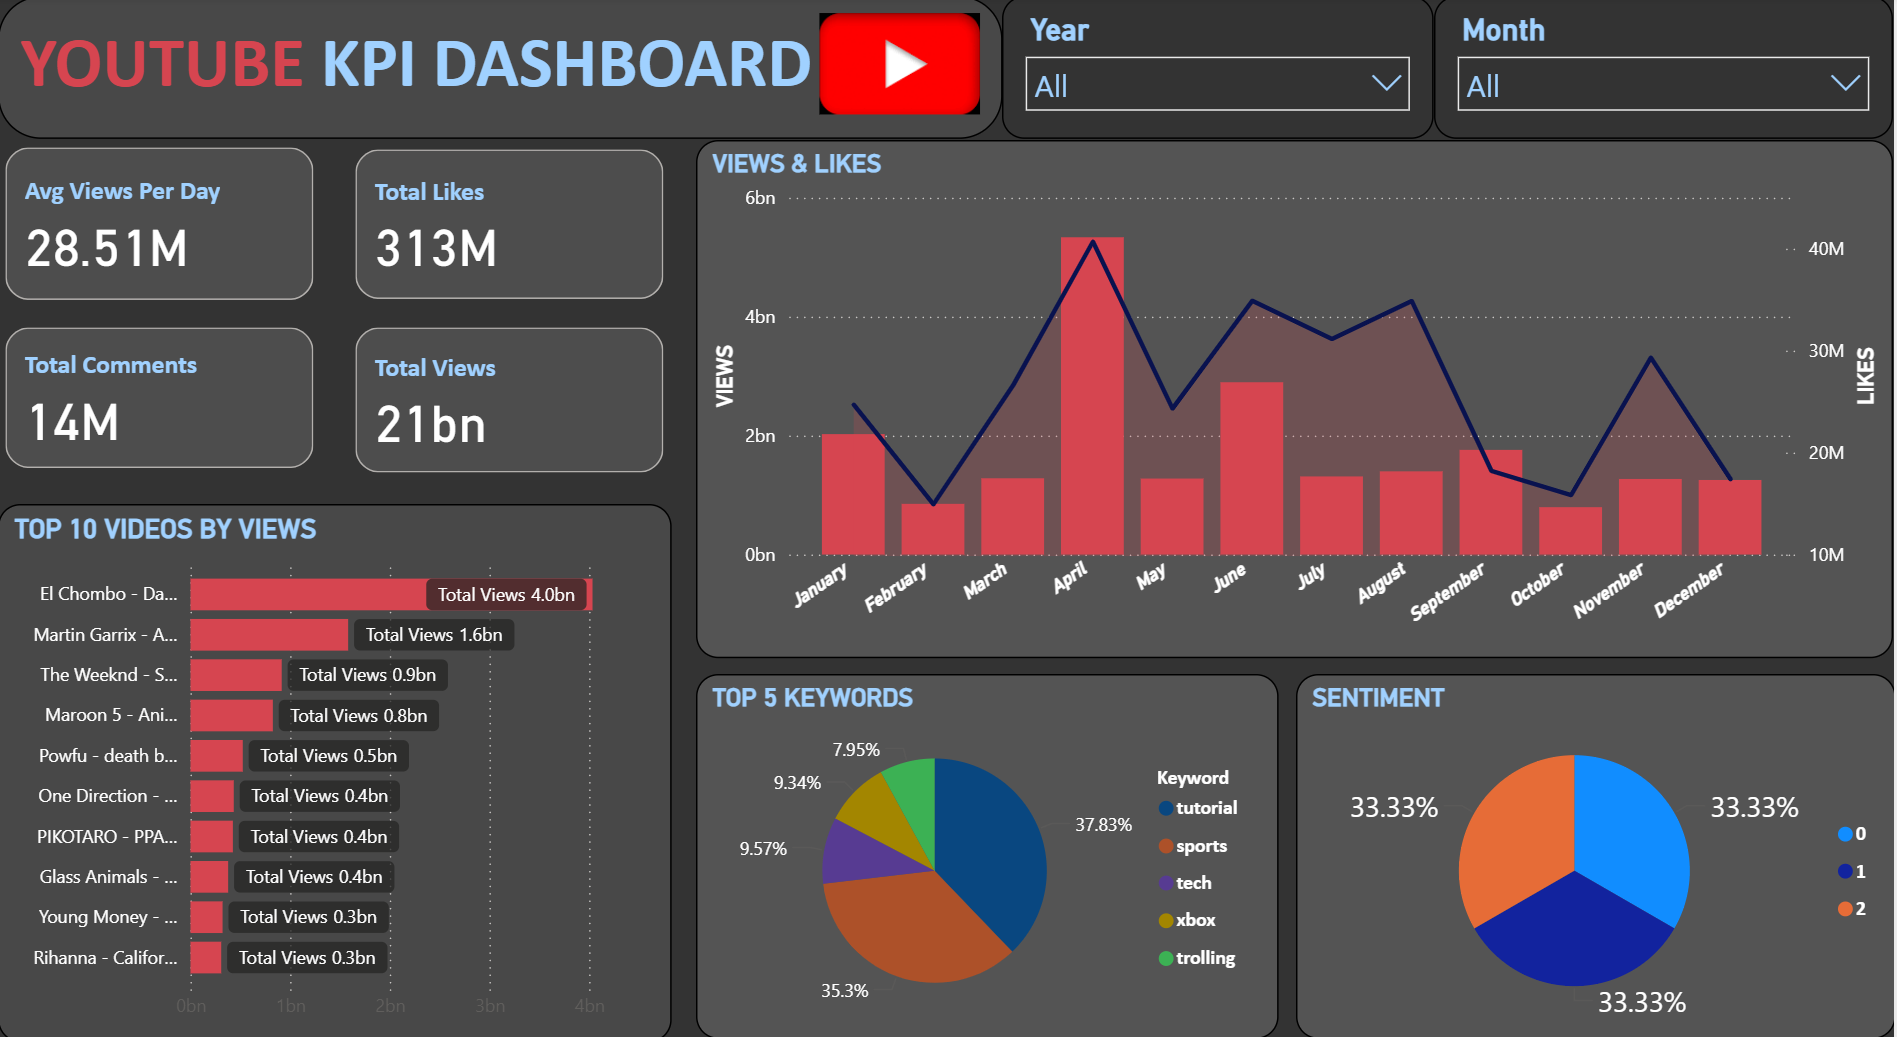

Layout of this report page (visuals, bound fields, positions):
{"tool":"powerbi","page":{"name":"Page 1","canvas":[1280,720],"ordinal":0},"visuals":[{"type":"lineClusteredColumnComboChart","title":"VIEWS & LIKES","fields":{"Y":["video.Views"],"Y2":["video.Likes"],"Category":["video.Published.Variation.Date Hierarchy.Month"]},"box":[471.7,96.7,808.3,350],"z":0},{"type":"cardVisual","fields":{"Data":["video.Total Likes"]},"box":[236.7,98.3,218.3,111.7],"z":1000},{"type":"cardVisual","fields":{"Data":["video.Total Views"]},"box":[236.7,218.3,218.3,108.3],"z":2000},{"type":"cardVisual","fields":{"Data":["video.Total Comments"]},"box":[0,218.3,218.3,105],"z":3000},{"type":"cardVisual","fields":{"Data":["video.Avg Views Per Day"]},"box":[0,96.7,218.3,113.3],"z":4000},{"type":"slicer","fields":{"Values":["video.Year"]},"box":[678.3,0,291.7,96.7],"z":5000},{"type":"textbox","box":[0,0,678.3,96.7],"z":6000},{"type":"pieChart","title":"TOP 5 KEYWORDS","fields":{"Category":["video.Keyword"],"Y":["video.Total Views"]},"box":[471.7,458.3,393.3,246.7],"z":7000},{"type":"pieChart","title":"SENTIMENT","fields":{"Y":["video.Total Comments"],"Category":["comment.Sentiment"]},"box":[876.7,458.3,405,246.7],"z":8000},{"type":"slicer","fields":{"Values":["video.Month"]},"box":[970,0,310,96.7],"z":9000},{"type":"clusteredBarChart","title":"TOP 5 VIDEOS BY VIEWS","fields":{"Category":["video.Title"],"Y":["video.Total Views"]},"box":[0,343.3,455,363.3],"z":10000},{"type":"image","box":[550,0,118.3,91.7],"z":11000}]}

Visuals, with their boxes in screenshot pixels (x1, y1, x2, y2), scaled from the page's 1280x720 canvas onto the 1897x1037 screenshot:
"VIEWS & LIKES" lineClusteredColumnComboChart: 699:139:1896:643
cardVisual - video.Total Likes: 351:142:674:302
cardVisual - video.Total Views: 351:314:674:470
cardVisual - video.Total Comments: 0:314:324:466
cardVisual - video.Avg Views Per Day: 0:139:324:302
slicer - video.Year: 1005:0:1438:139
textbox: 0:0:1005:139
"TOP 5 KEYWORDS" pieChart: 699:660:1282:1015
"SENTIMENT" pieChart: 1299:660:1896:1015
slicer - video.Month: 1438:0:1896:139
"TOP 5 VIDEOS BY VIEWS" clusteredBarChart: 0:494:674:1018
image: 815:0:990:132
